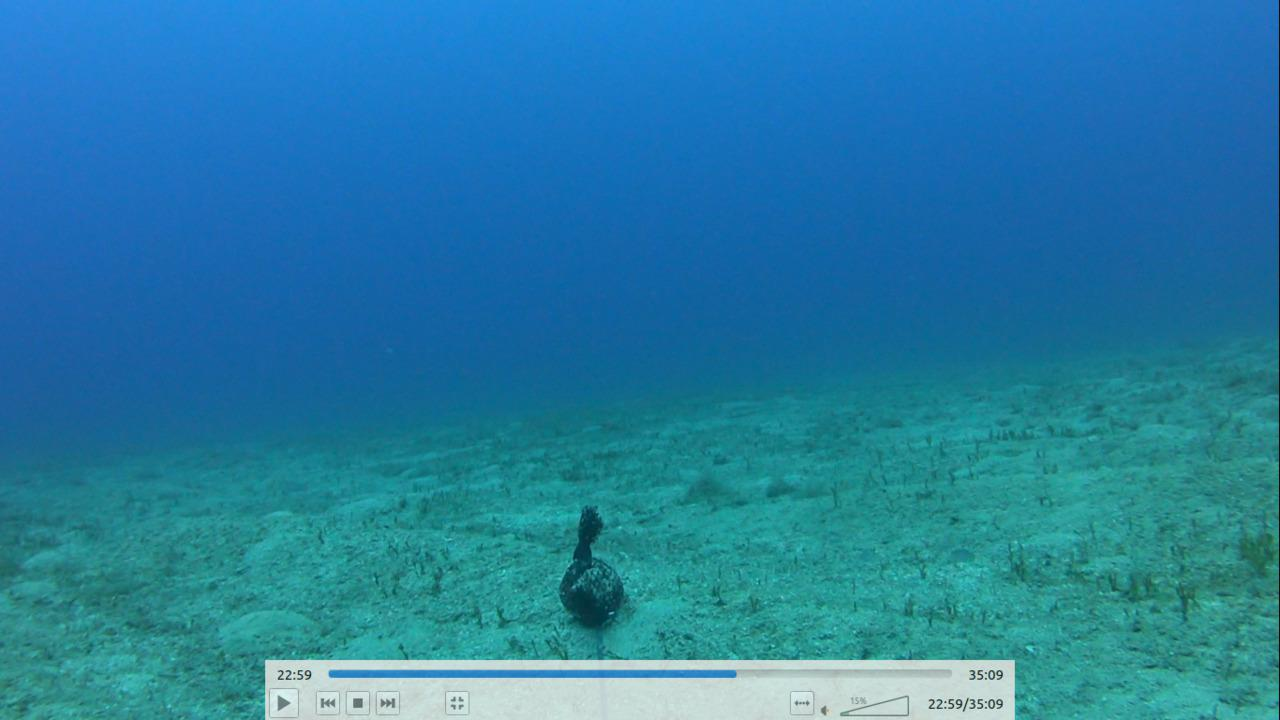dactylopterus: (713, 392, 777, 423)
